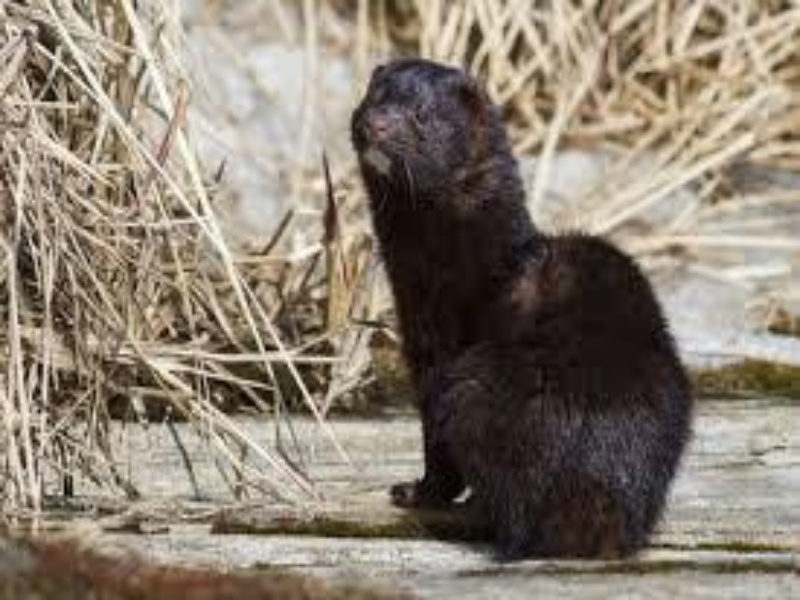minkish: (345, 54, 699, 558)
